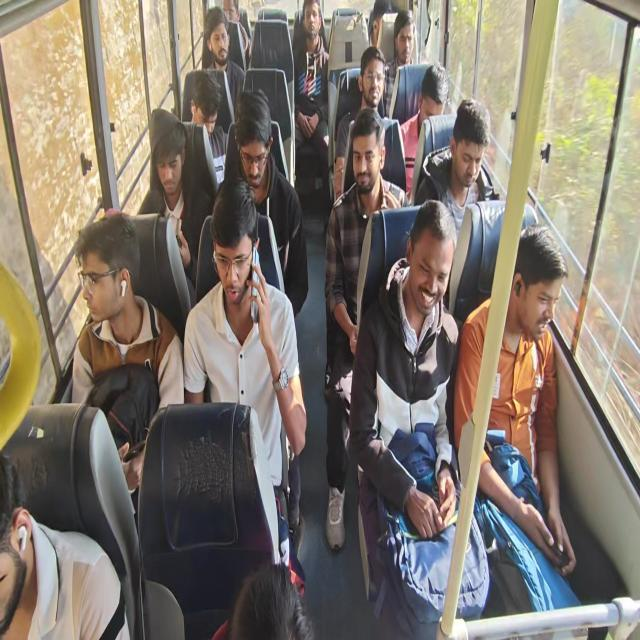person: (0, 454, 43, 630), (412, 205, 453, 339), (77, 228, 134, 324), (344, 110, 396, 208), (233, 92, 280, 198), (515, 225, 558, 329), (213, 211, 256, 306), (149, 114, 181, 188), (458, 109, 486, 188), (187, 80, 223, 134), (360, 50, 386, 109), (421, 66, 444, 128), (209, 13, 235, 65), (307, 2, 328, 42), (394, 23, 414, 61), (217, 0, 242, 29), (373, 6, 392, 43)
